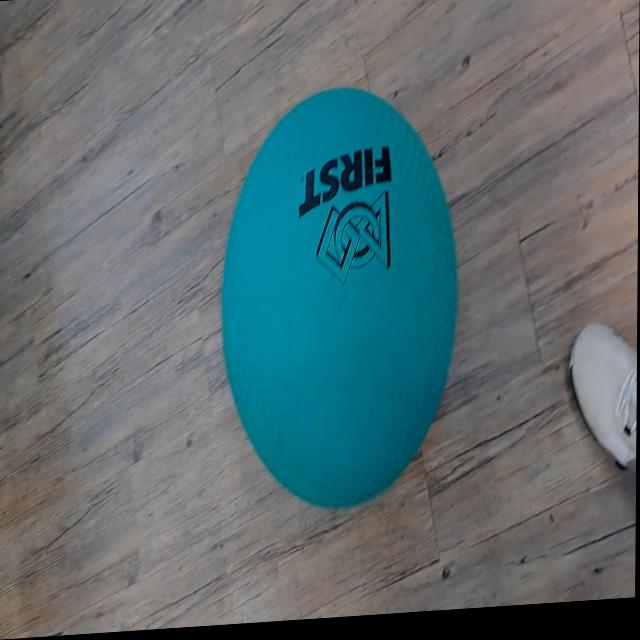ALGAE: (218, 77, 461, 519)
